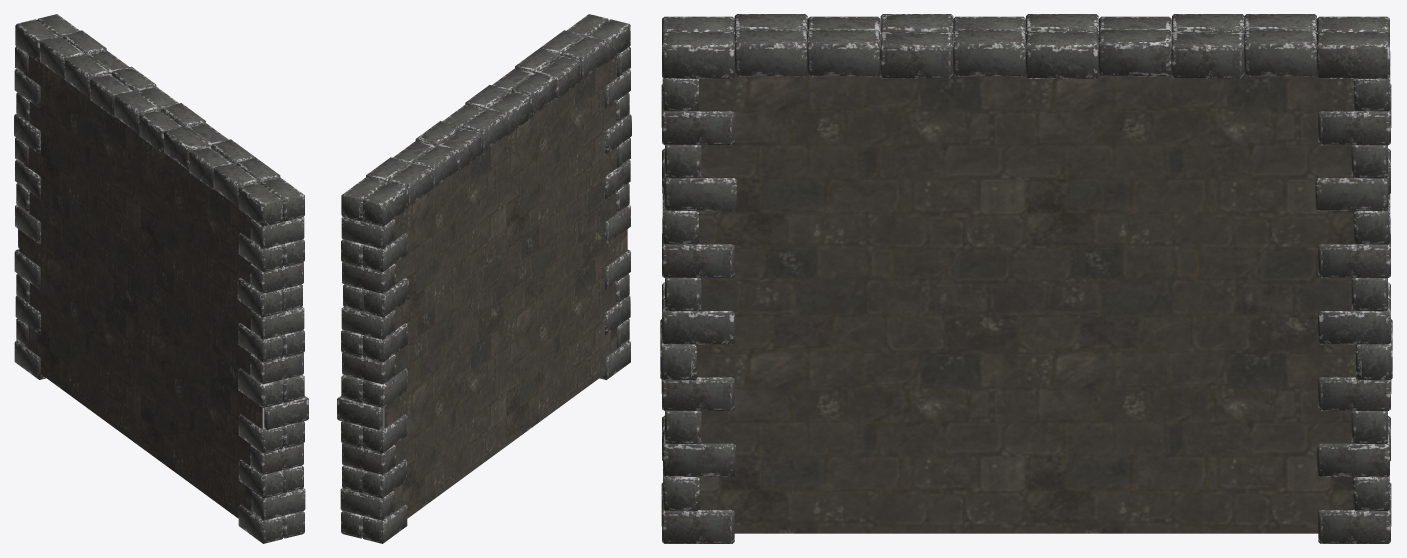
File: stone_wall_download.glb
3 renders of one model, left to right at view 1: azimuth 30°, elevation 25°; view 2: azimuth 150°, elevation 25°; view 3: azimuth 270°, elevation 25°, orthographic. The views are drawn at different scales.
Parts seen in each view (by area): view 1: wall_wall_low_0; view 2: wall_wall_low_0; view 3: wall_wall_low_0.
Boxes of the visible parts, box(x1,y1,x2,y2) form: wall_wall_low_0: box(14, 14, 308, 543); wall_wall_low_0: box(337, 14, 631, 543); wall_wall_low_0: box(660, 14, 1392, 543).
Size of the model in its own units: 0.6174 by 4.23 by 5.61.
Materials: 1 (1 with a texture image).
